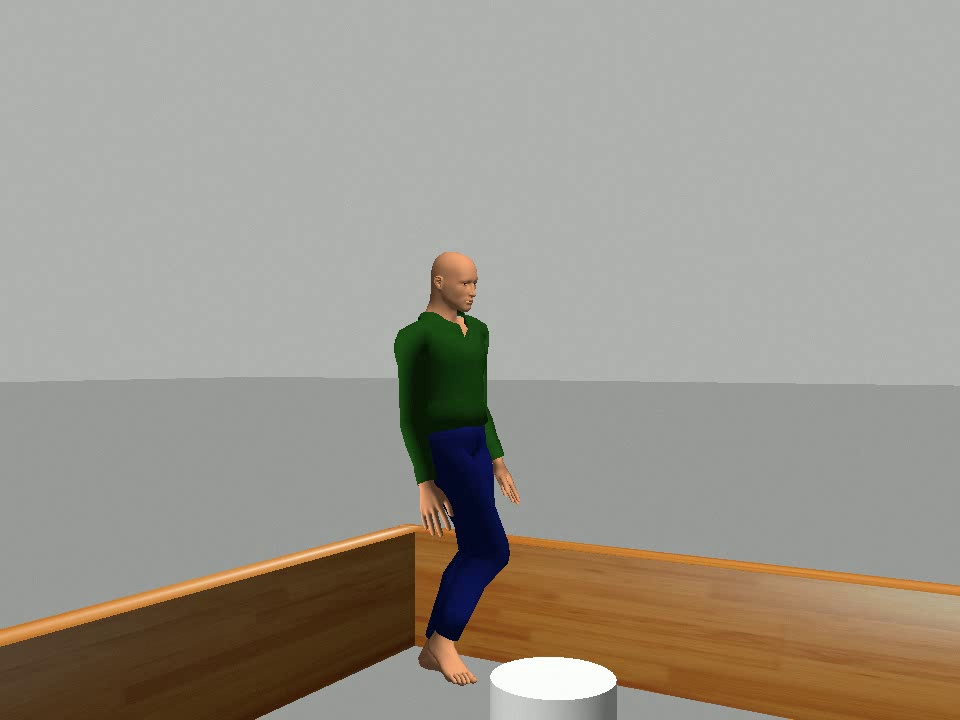person: (389, 247, 536, 690)
